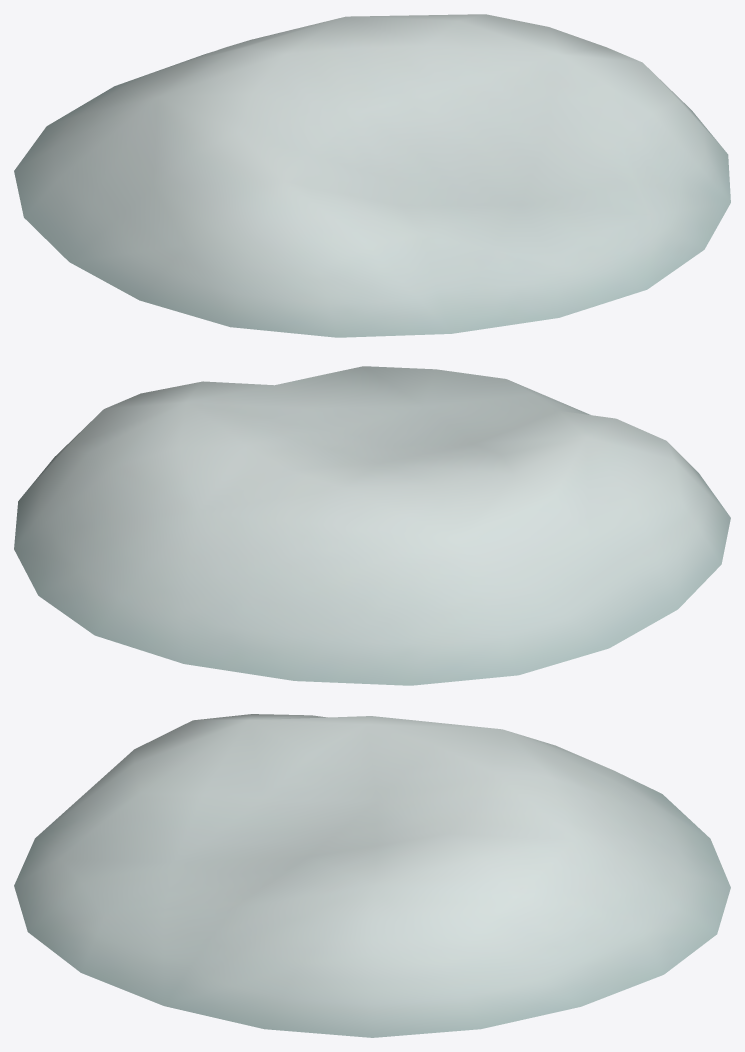
Rendered from Snow_mound_A.obj.
The picture shows the model from 3 angles, top to bottom: view 1: azimuth 30°, elevation 25°; view 2: azimuth 150°, elevation 25°; view 3: azimuth 270°, elevation 25°; orthographic projection.
Visible parts, largest first — view 1: Snow_mound_A; view 2: Snow_mound_A; view 3: Snow_mound_A.
Part boxes in pixels (x1=…): Snow_mound_A: x1=14, y1=14, x2=730, y2=337; Snow_mound_A: x1=14, y1=366, x2=730, y2=685; Snow_mound_A: x1=14, y1=714, x2=730, y2=1037.
Size of the model in its own units: 3.97 by 0.5913 by 3.96.
